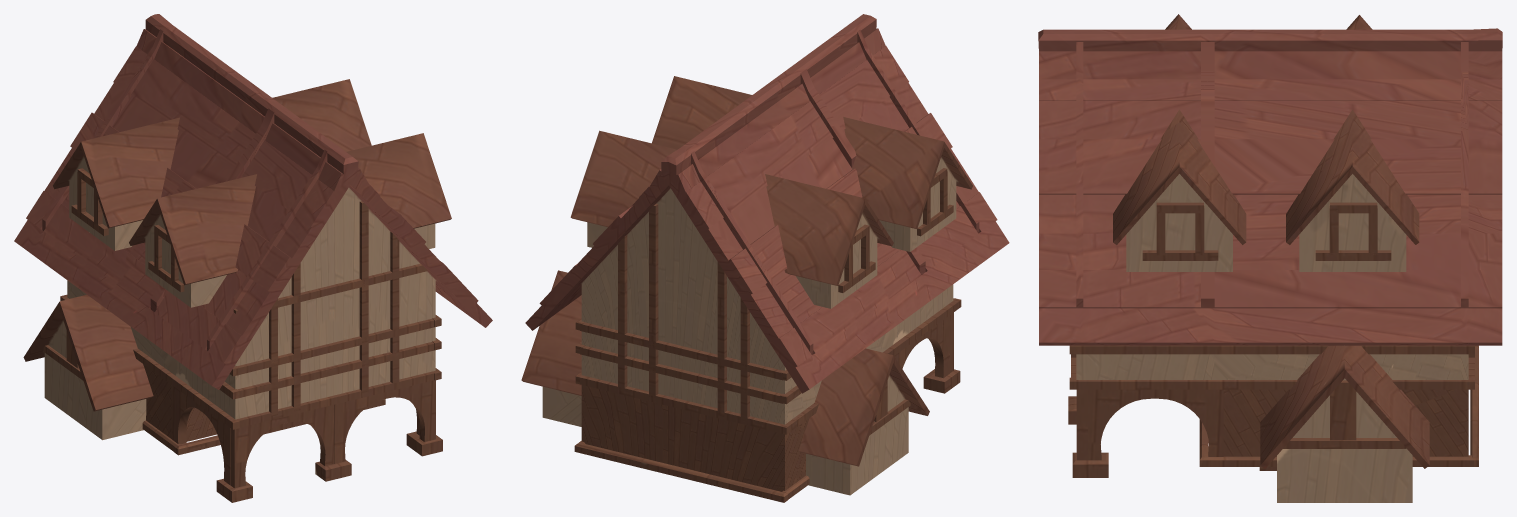
The model's file is headquarters_1.fbx.
The picture shows the model from 3 angles, left to right: view 1: azimuth 30°, elevation 25°; view 2: azimuth 150°, elevation 25°; view 3: azimuth 270°, elevation 25°; orthographic projection. The views are drawn at different scales.
Parts seen in each view (by area): view 1: pCube63; view 2: pCube63; view 3: pCube63.
Boxes of the visible parts, x1=… form: pCube63: x1=14, y1=14, x2=492, y2=502; pCube63: x1=521, y1=14, x2=1009, y2=502; pCube63: x1=1038, y1=14, x2=1502, y2=502.
Bounding box in the file's own units: 50.68 × 47.81 × 51.95.
1 material, 1 textured.
